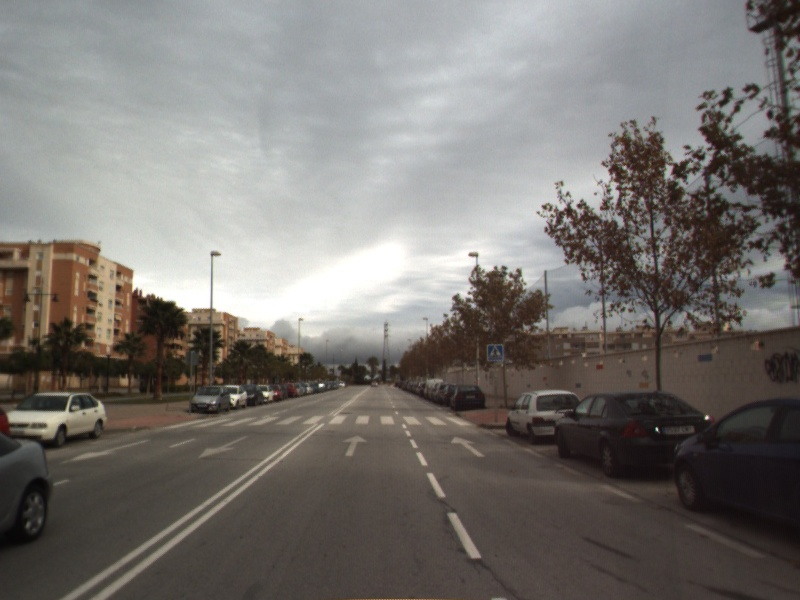STRAIGHT: (449, 434, 488, 459), (341, 433, 369, 458)
